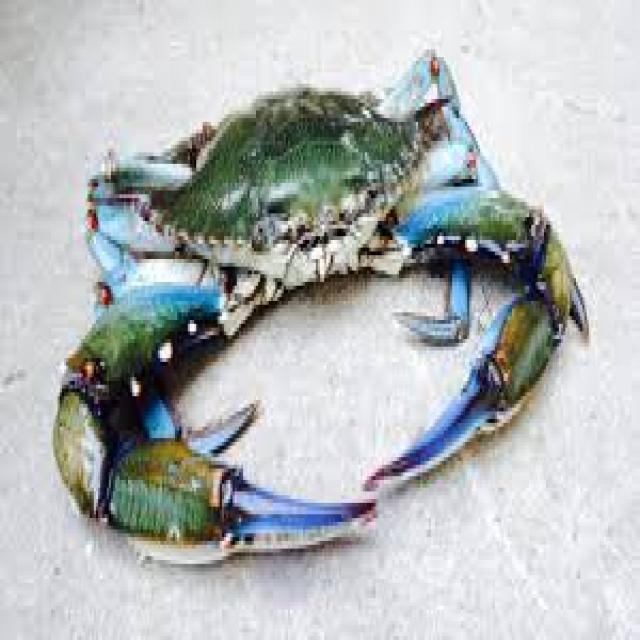crab: (150, 76, 482, 408)
